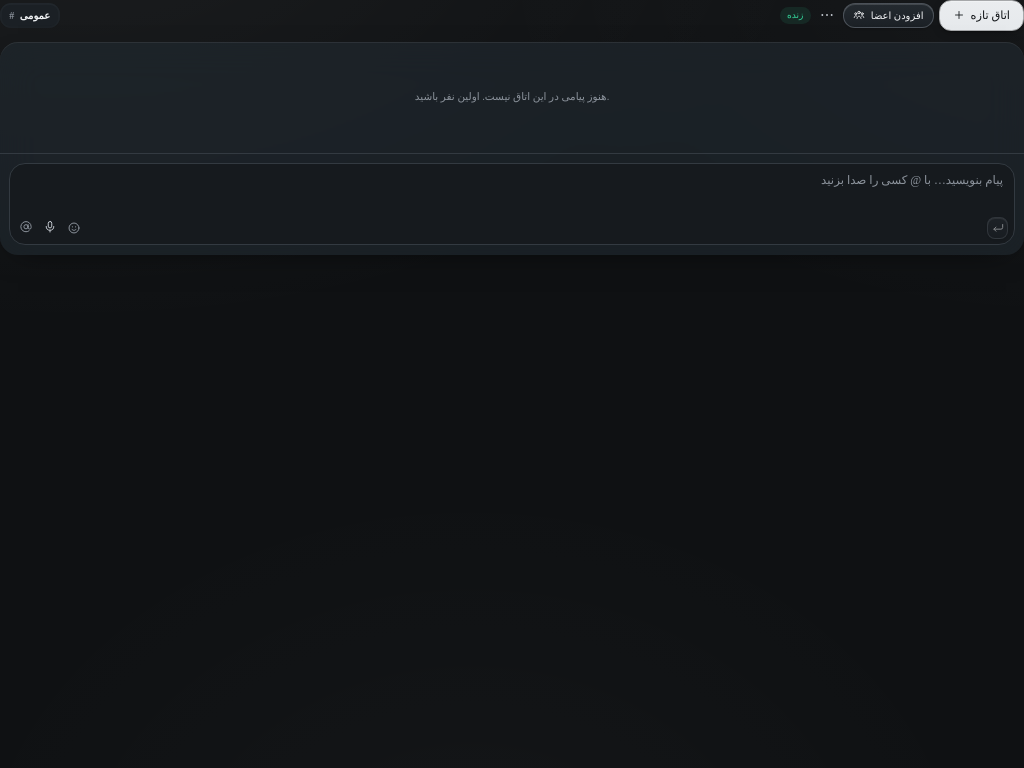
Test: the room dialog and the day (2026-09-06) › a refused room keeps the dialog and the name typed into it
Step 1. Click the button "اتاق تازه" → (982, 15), box top-left (939, 0), bottom-right (1023, 31)
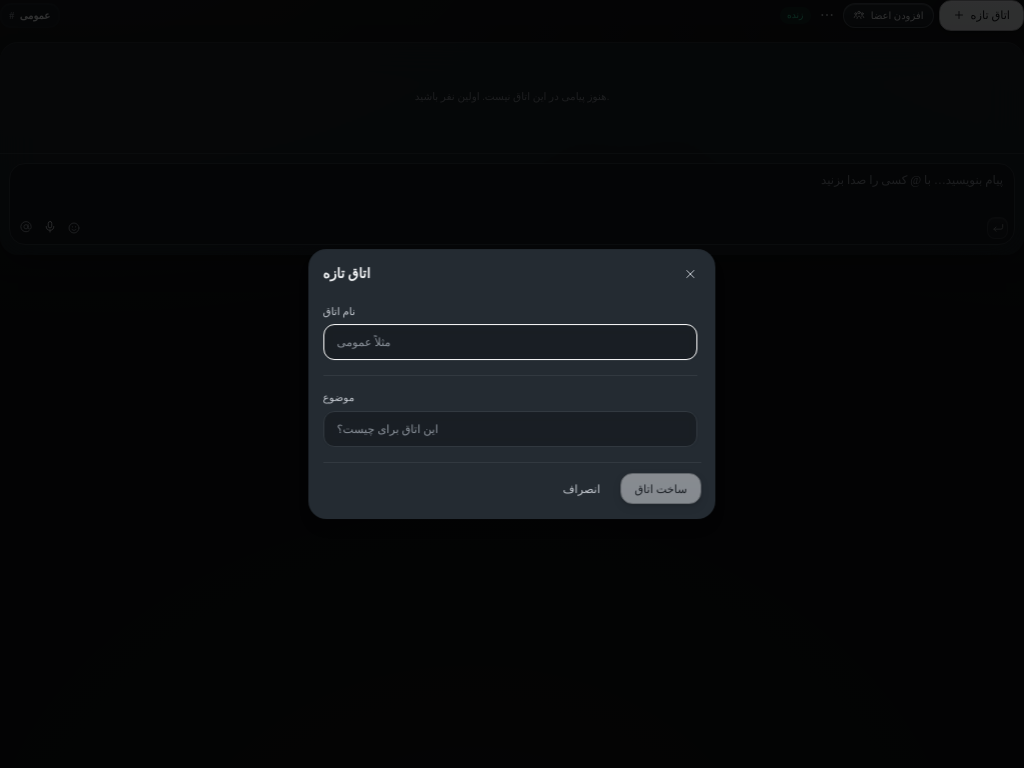
Step 2. Type "طراحی" into the field labelled "نام اتاق" → (510, 342), box top-left (323, 324), bottom-right (698, 360)
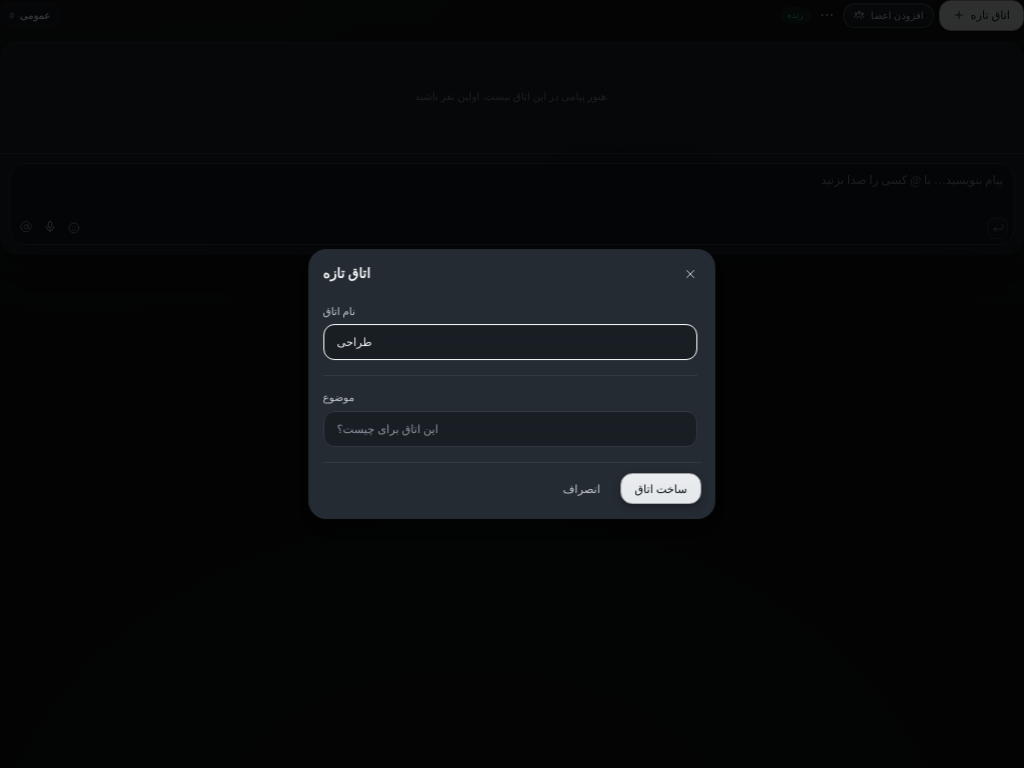
Step 3. Click the button "ساخت اتاق" → (661, 489), box top-left (620, 474), bottom-right (701, 504)
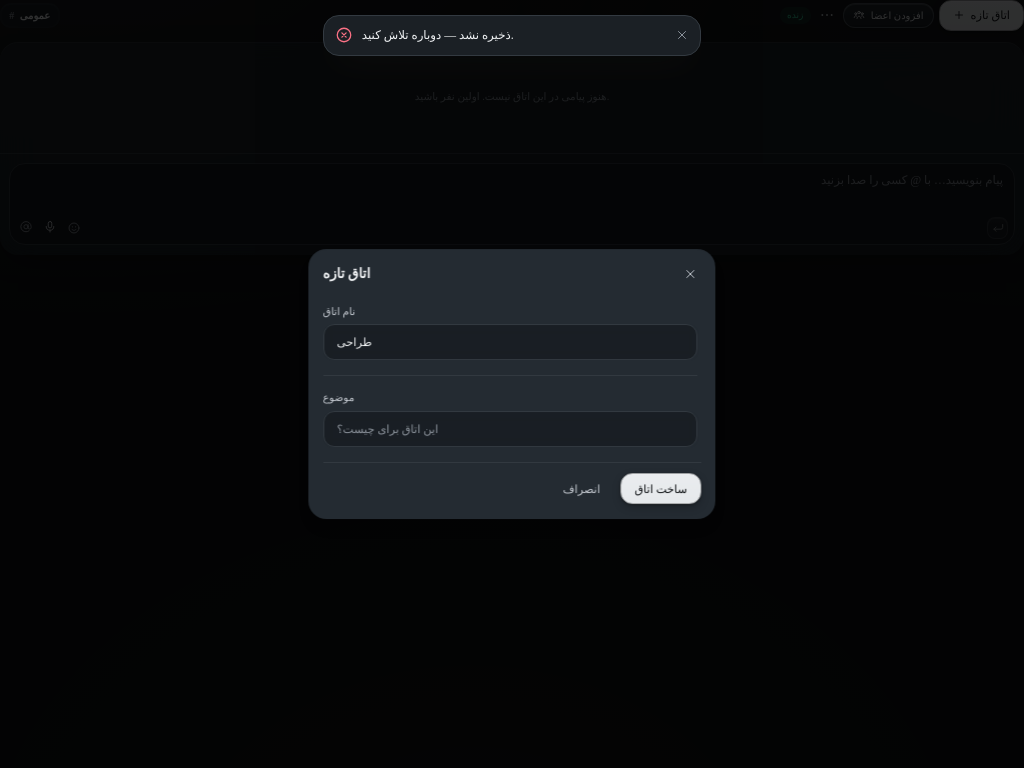
Expected: the message reads "ذخیره نشد — دوباره تلاش کنید.", top-left (362, 28), bottom-right (514, 42)
